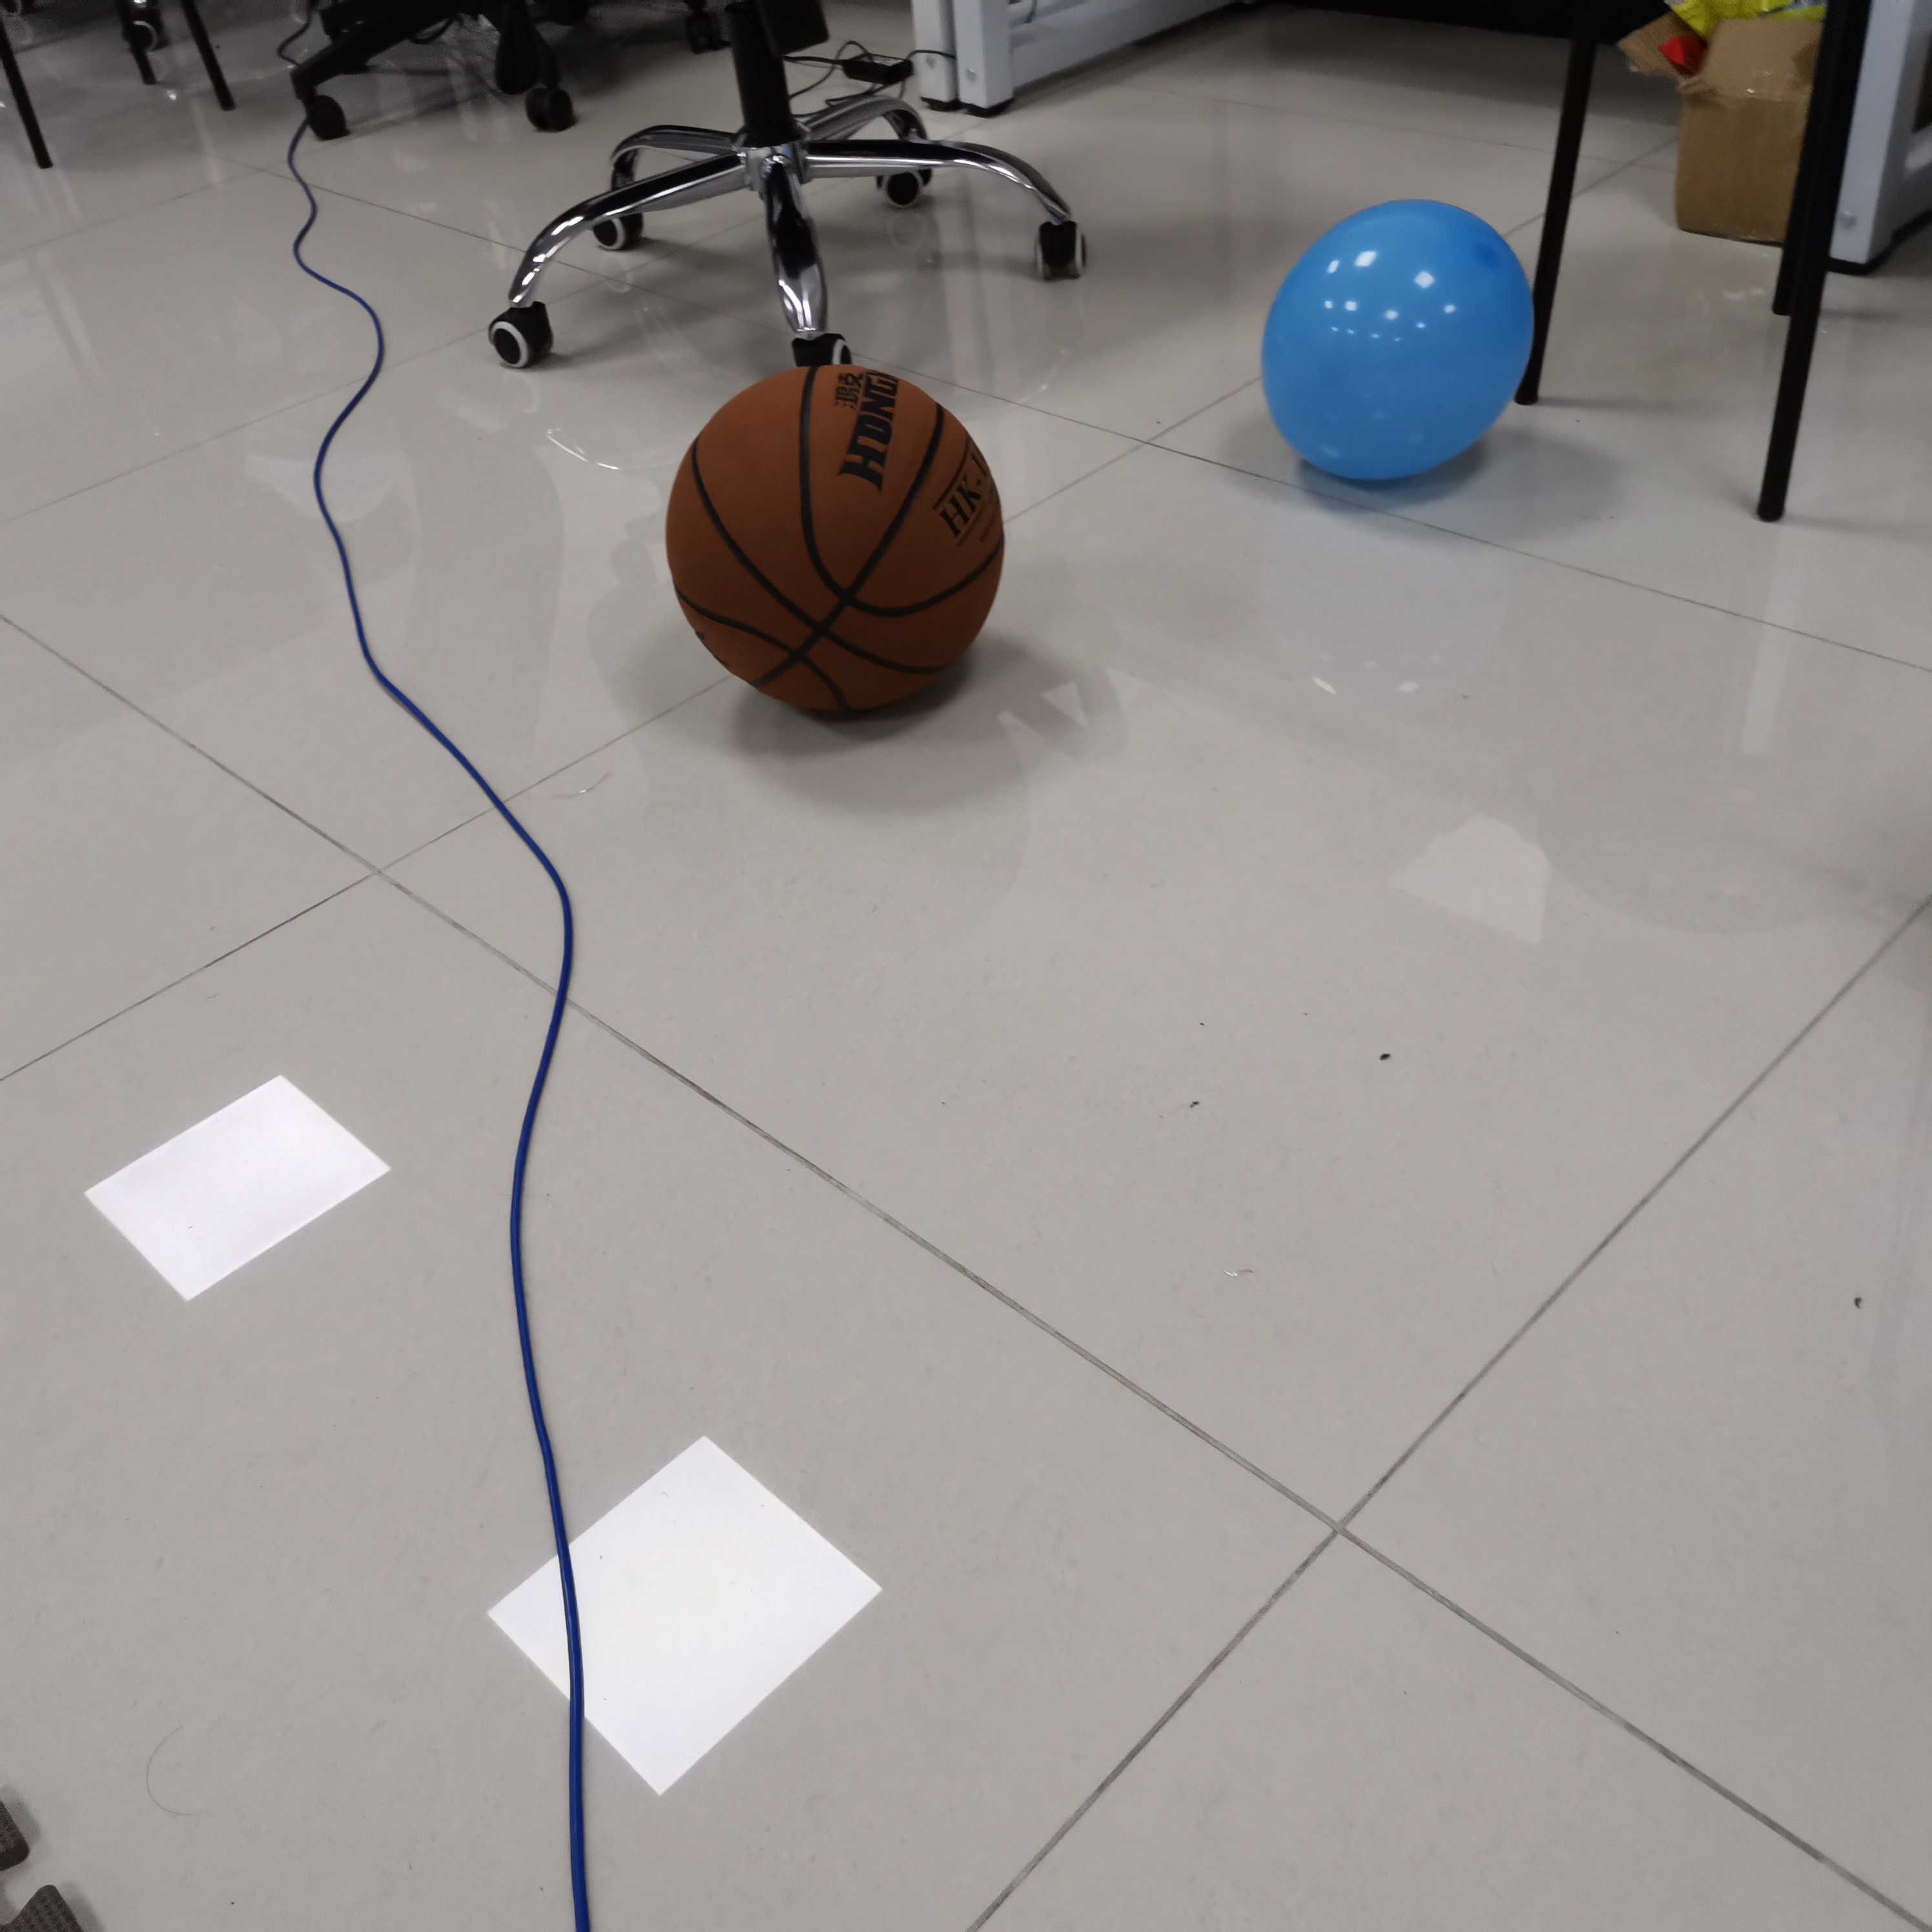balloon: (1260, 202, 1534, 488)
basketball: (667, 368, 1003, 722)
